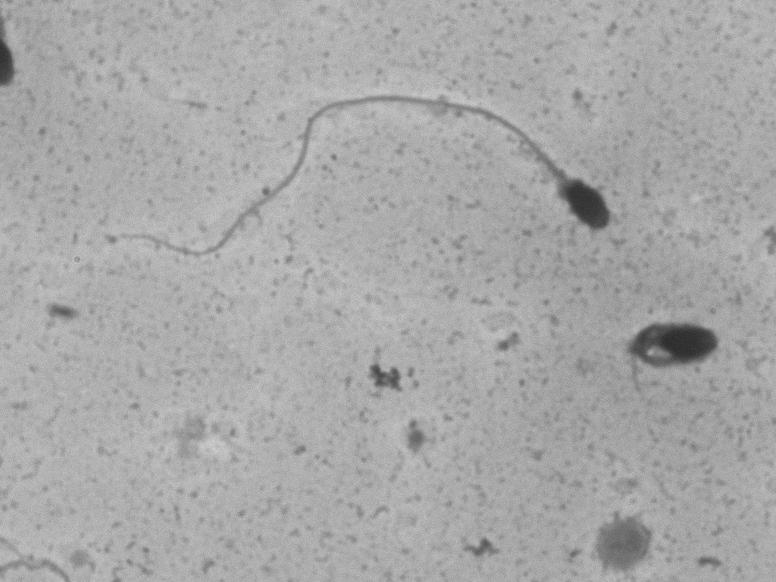Abnormal: (610, 289, 759, 428)
Normal: (77, 82, 630, 263)
